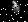person: (12, 1, 21, 16)
